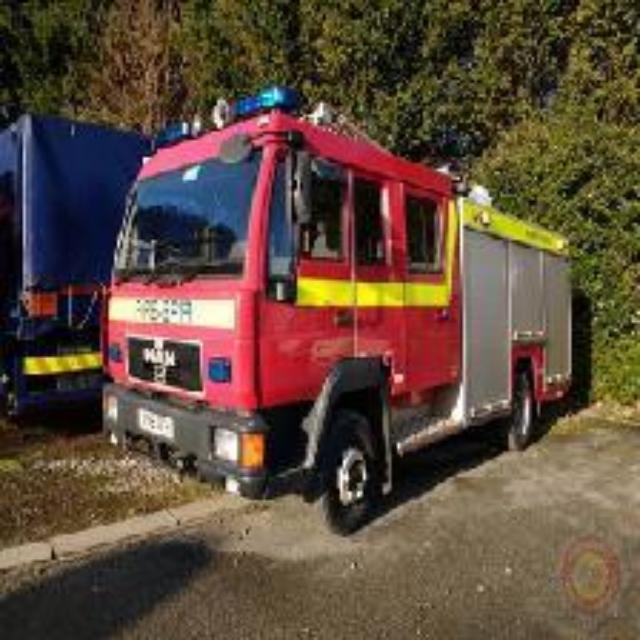emergency: (115, 101, 603, 512)
